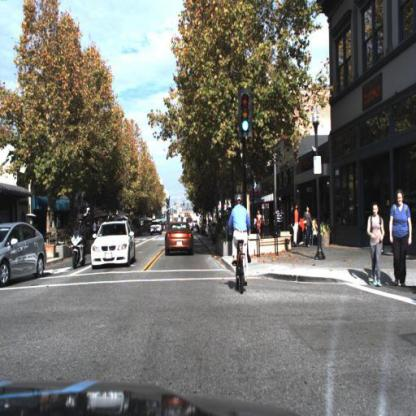biker: (228, 193, 253, 298), (70, 217, 89, 275)
car: (1, 222, 49, 288), (88, 216, 138, 272), (164, 220, 196, 261), (149, 219, 163, 236)
pedestrian: (389, 189, 413, 289), (365, 202, 386, 291), (292, 203, 301, 247), (257, 209, 268, 241), (304, 203, 312, 247), (278, 208, 287, 238)
trafficLight: (239, 93, 252, 137)
